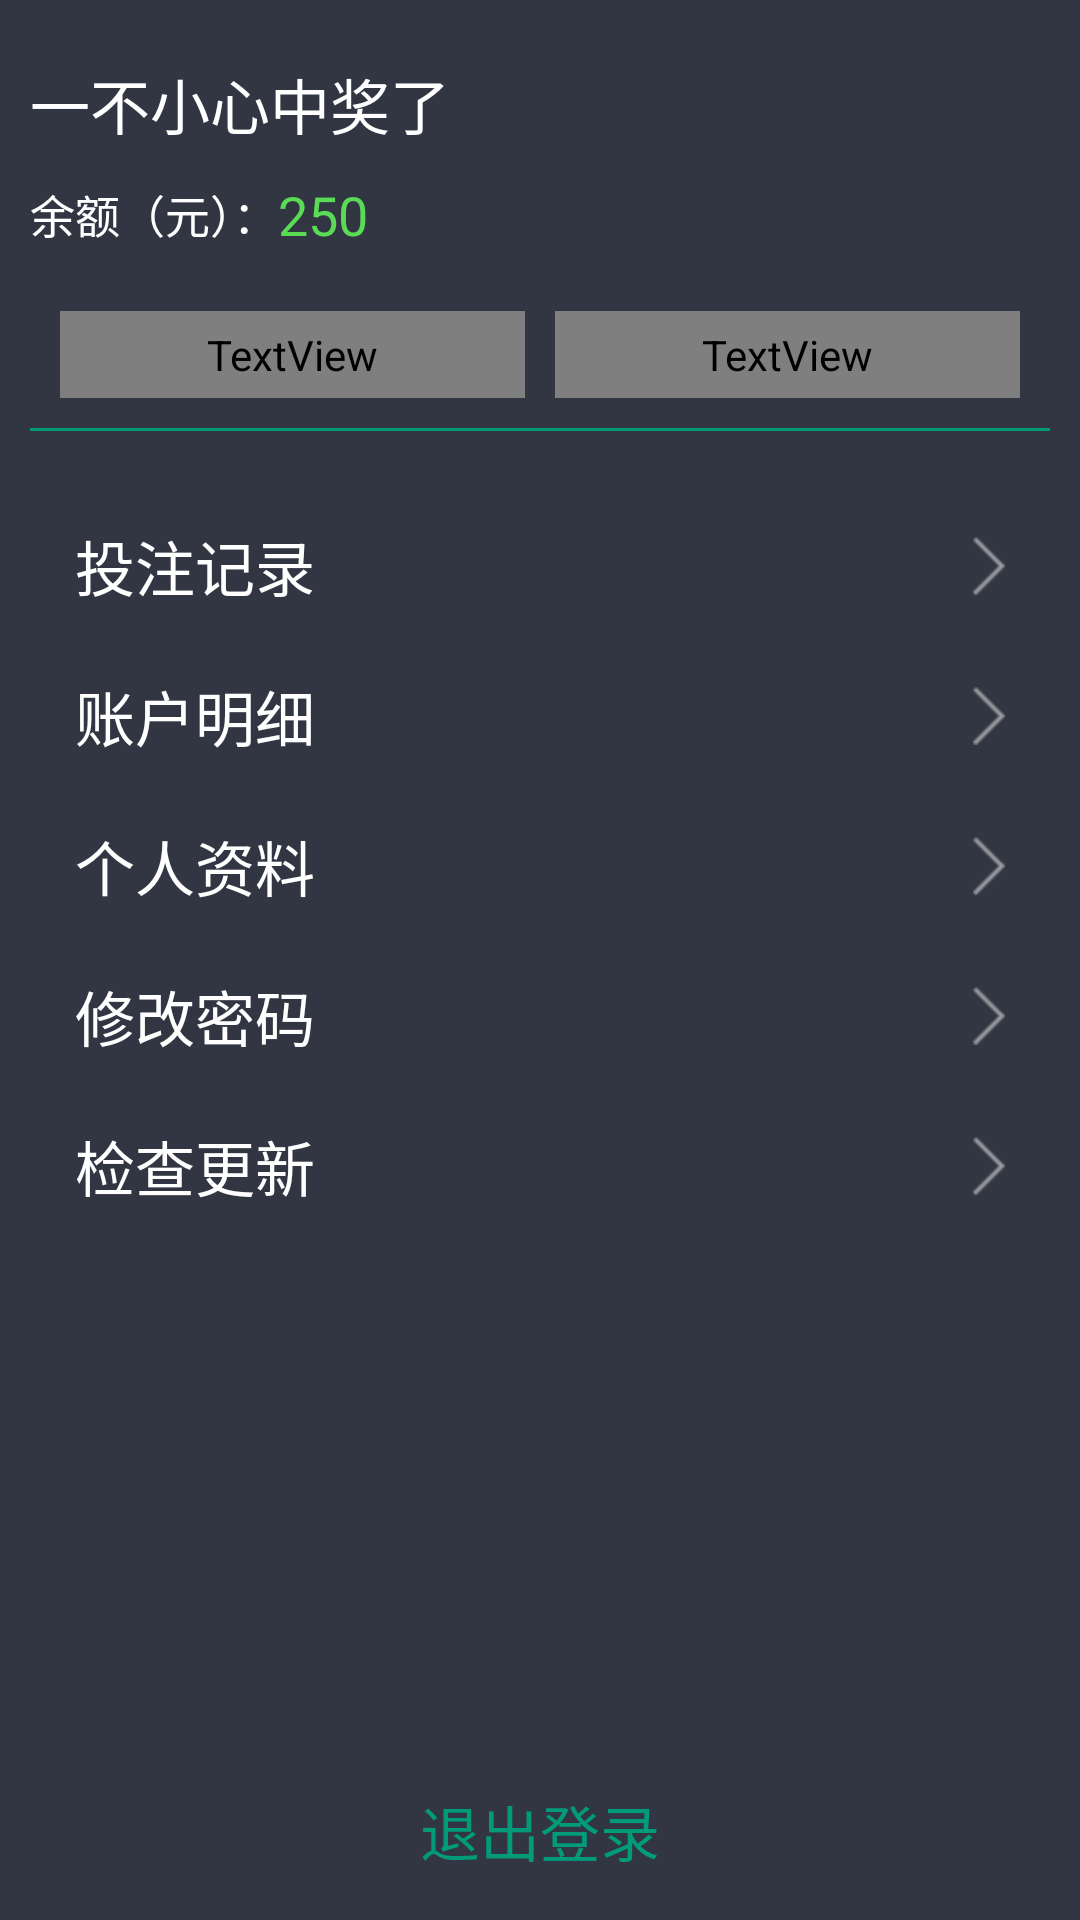

Icon click points for this 1080px x 1920px phone screenshot, format [x,y]:
right: [989,566], [989,716], [989,866], [989,1016], [989,1166]
